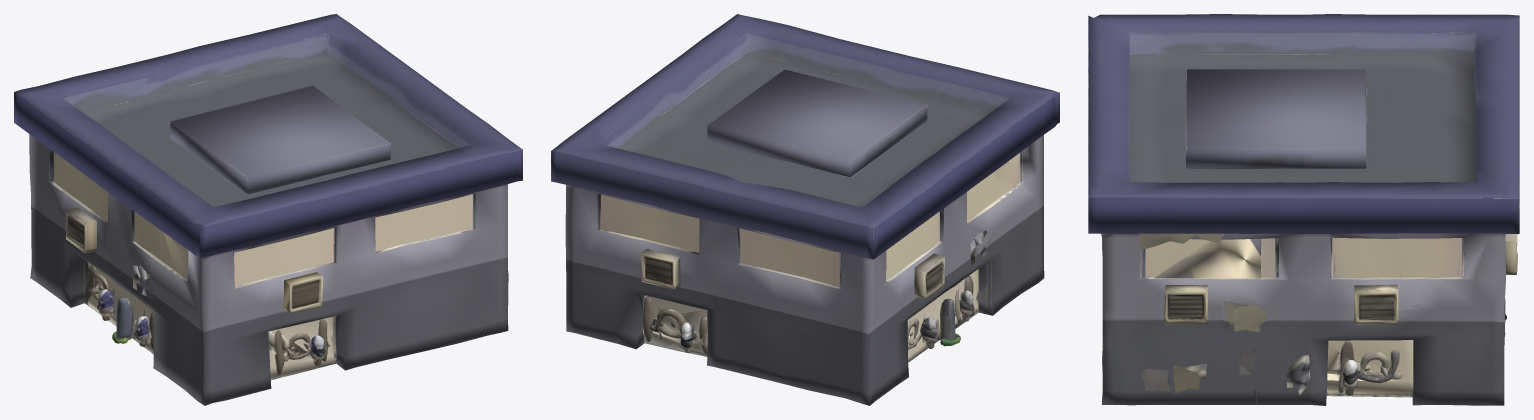
Rendered from Meshy_AI_Rooftop_Glow_0919231804_texture.fbx.
3 views of the same model, side by side, from view 1: azimuth 30°, elevation 25°; view 2: azimuth 150°, elevation 25°; view 3: azimuth 270°, elevation 25° (orthographic). The views are drawn at different scales.
Parts seen in each view (by area): view 1: Mesh_0; view 2: Mesh_0; view 3: Mesh_0.
Part boxes in pixels (x1,y1,x2,y2): Mesh_0: (14, 14, 522, 405); Mesh_0: (551, 14, 1059, 405); Mesh_0: (1088, 14, 1519, 405).
Bounding box in the file's own units: 100 × 55.08 × 100.
1 material, 1 textured.
